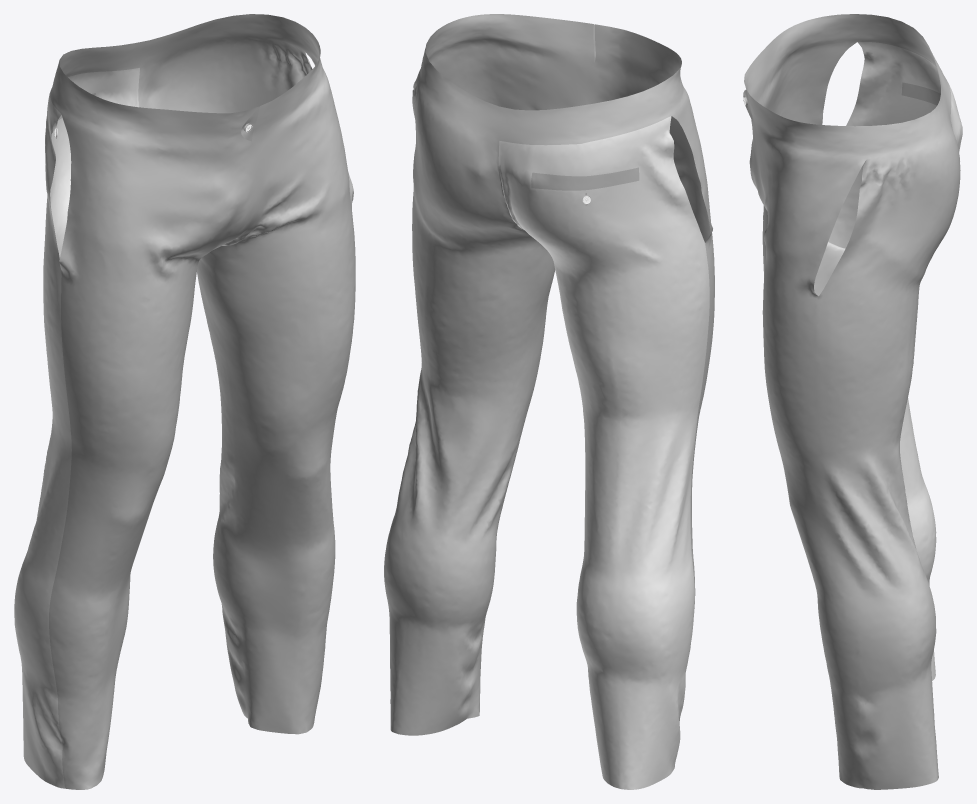
File: trousers.fbx
The picture shows the model from 3 angles, left to right: view 1: azimuth 30°, elevation 25°; view 2: azimuth 150°, elevation 25°; view 3: azimuth 270°, elevation 25°; orthographic projection. The views are drawn at different scales.
Parts seen in each view (by area): view 1: trousers; view 2: trousers; view 3: trousers.
Part boxes in pixels (x1,y1,x2,y2): trousers: (14,14,355,789); trousers: (384,14,714,789); trousers: (743,14,962,789).
Size of the model in its own units: 383 by 869 by 260.
